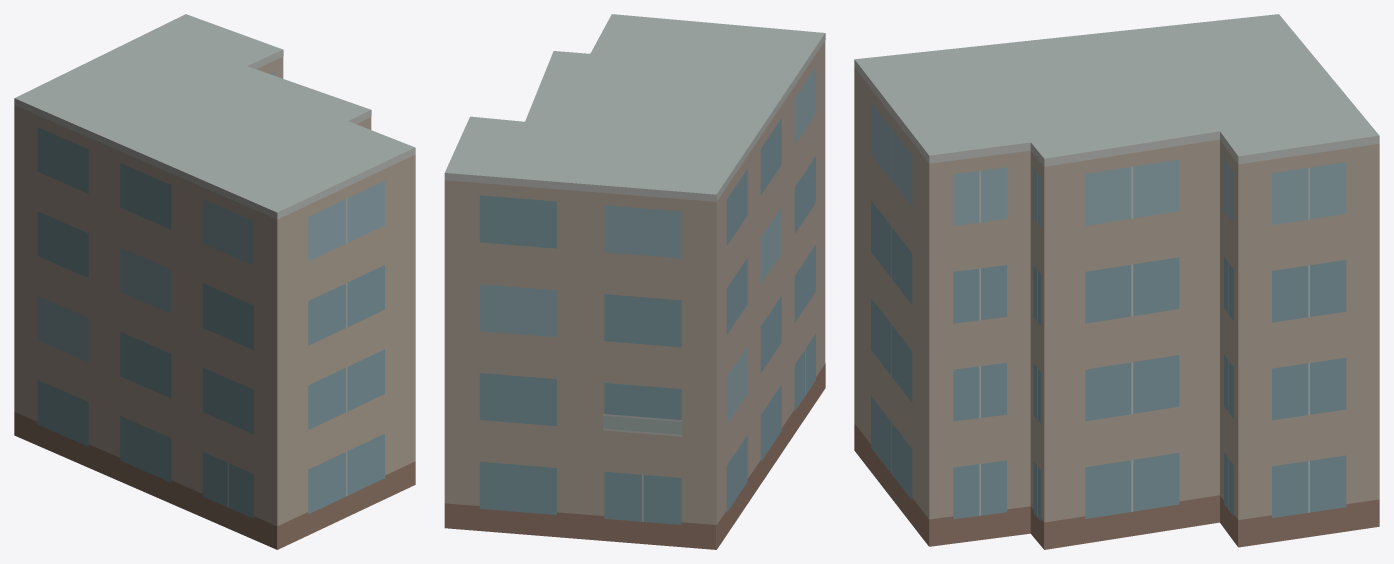
The model's file is survey-upis-32723416.glb.
3 renders of one model, left to right at view 1: azimuth 30°, elevation 25°; view 2: azimuth 150°, elevation 25°; view 3: azimuth 270°, elevation 25°, orthographic. The views are drawn at different scales.
Visible parts, largest first — view 1: survey-upis-32723416.tmp; view 2: survey-upis-32723416.tmp; view 3: survey-upis-32723416.tmp.
Part boxes in pixels (box(x1,y1,x2,y2)): survey-upis-32723416.tmp: box(14, 14, 415, 549); survey-upis-32723416.tmp: box(444, 14, 825, 549); survey-upis-32723416.tmp: box(854, 14, 1379, 549).
Bounding box in the file's own units: 9.38 × 11.8 × 14.37.
